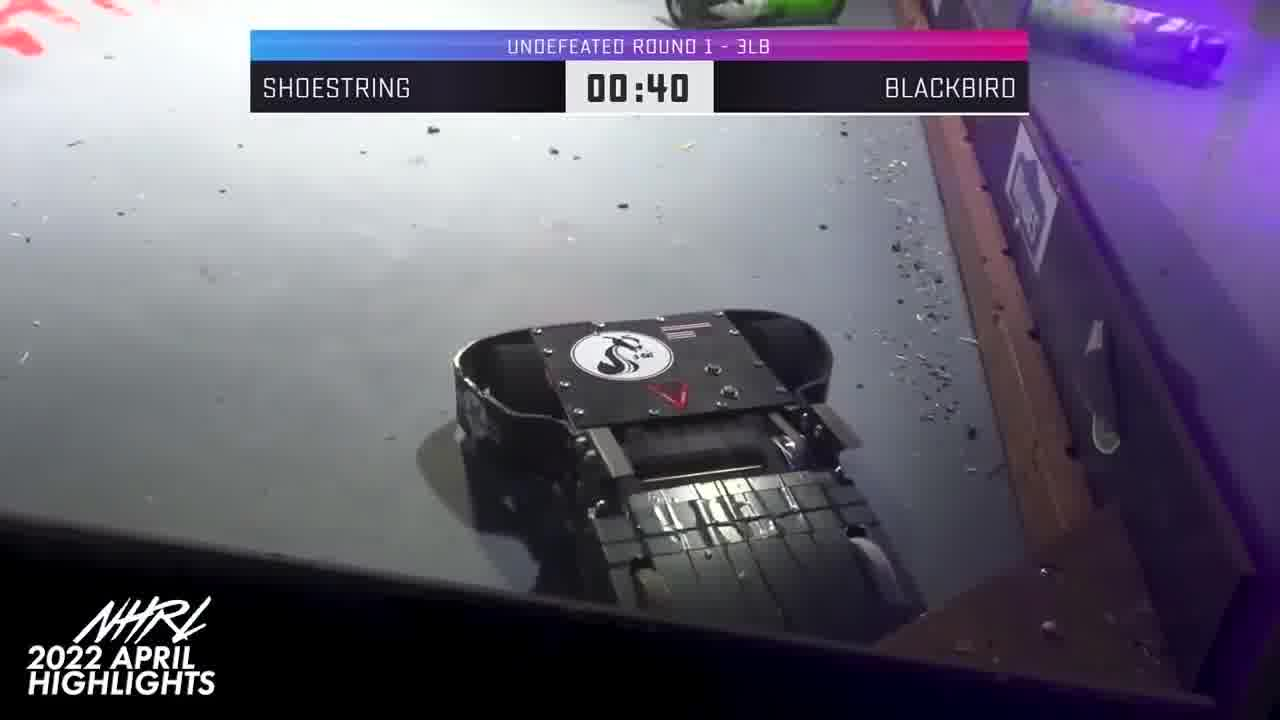combatbot: (453, 313, 859, 498), (589, 473, 926, 640)
